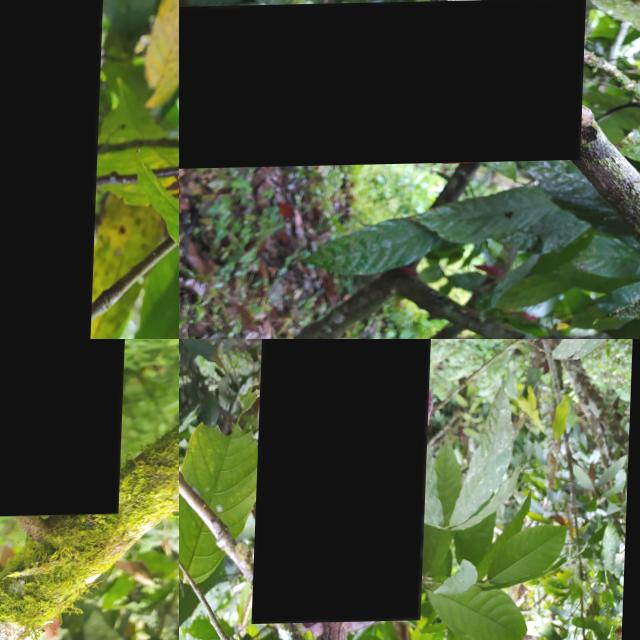Fitoftora: (0, 339, 133, 519)
Monilia: (179, 0, 587, 170), (256, 339, 440, 624), (0, 0, 109, 339)
